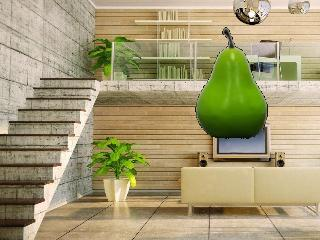pear: (193, 25, 273, 141)
